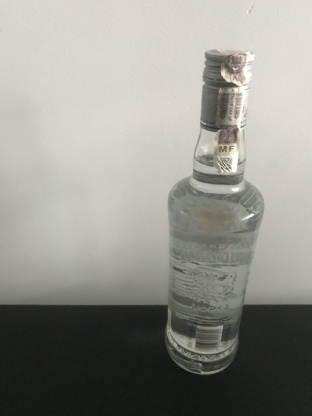nakretka: (198, 46, 255, 132)
